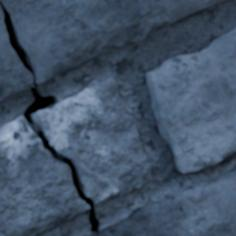brick: (147, 29, 235, 172)
broken_brick: (0, 0, 229, 85), (36, 76, 152, 207), (84, 163, 235, 235), (0, 115, 87, 235), (0, 7, 31, 104)
crack: (0, 2, 101, 233), (184, 1, 217, 17)
